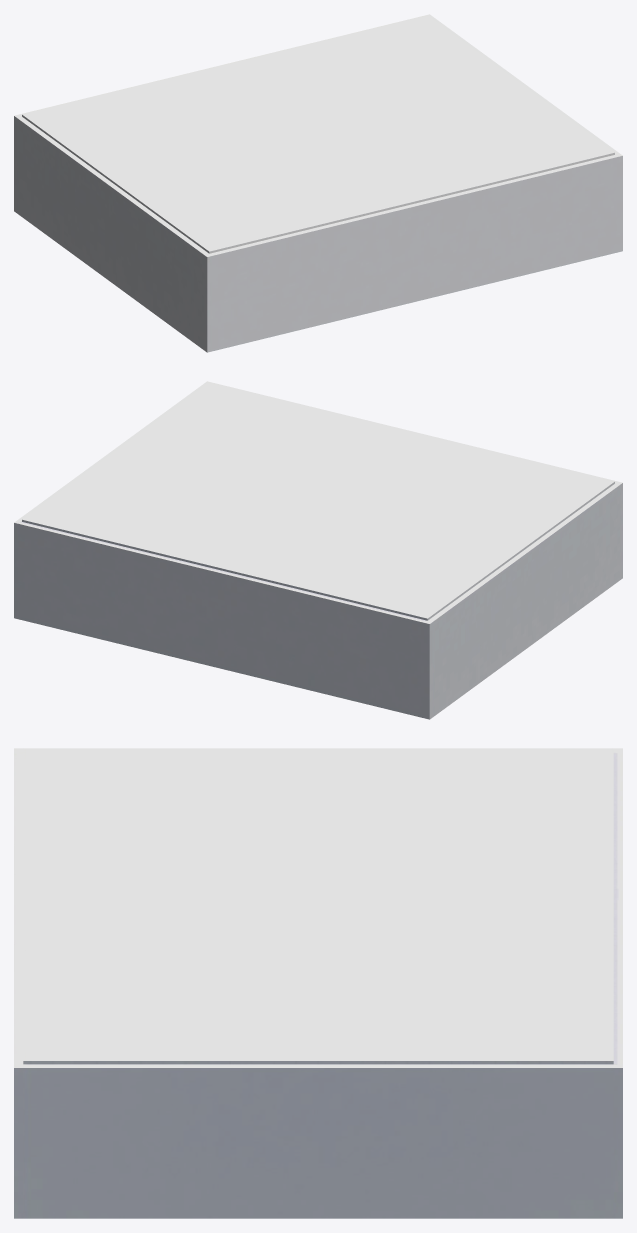
The model's file is room_devices_v1.glb.
The picture shows the model from 3 angles, top to bottom: view 1: azimuth 30°, elevation 25°; view 2: azimuth 150°, elevation 25°; view 3: azimuth 270°, elevation 25°; orthographic projection. The views are drawn at different scales.
Parts seen in each view (by area): view 1: R_devices_shell; view 2: R_devices_shell; view 3: R_devices_shell.
Part boxes in pixels (<box>): R_devices_shell: <box>14,14,622,352</box>; R_devices_shell: <box>14,381,622,719</box>; R_devices_shell: <box>14,748,622,1218</box>.
Size of the model in its own units: 20.5 by 4.7 by 16.5.
Materials: 5 (5 with a texture image).
